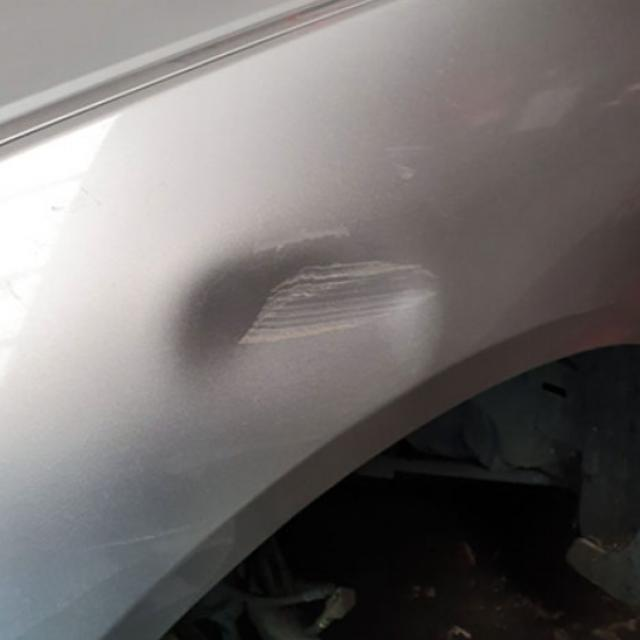dents: (167, 234, 442, 390)
